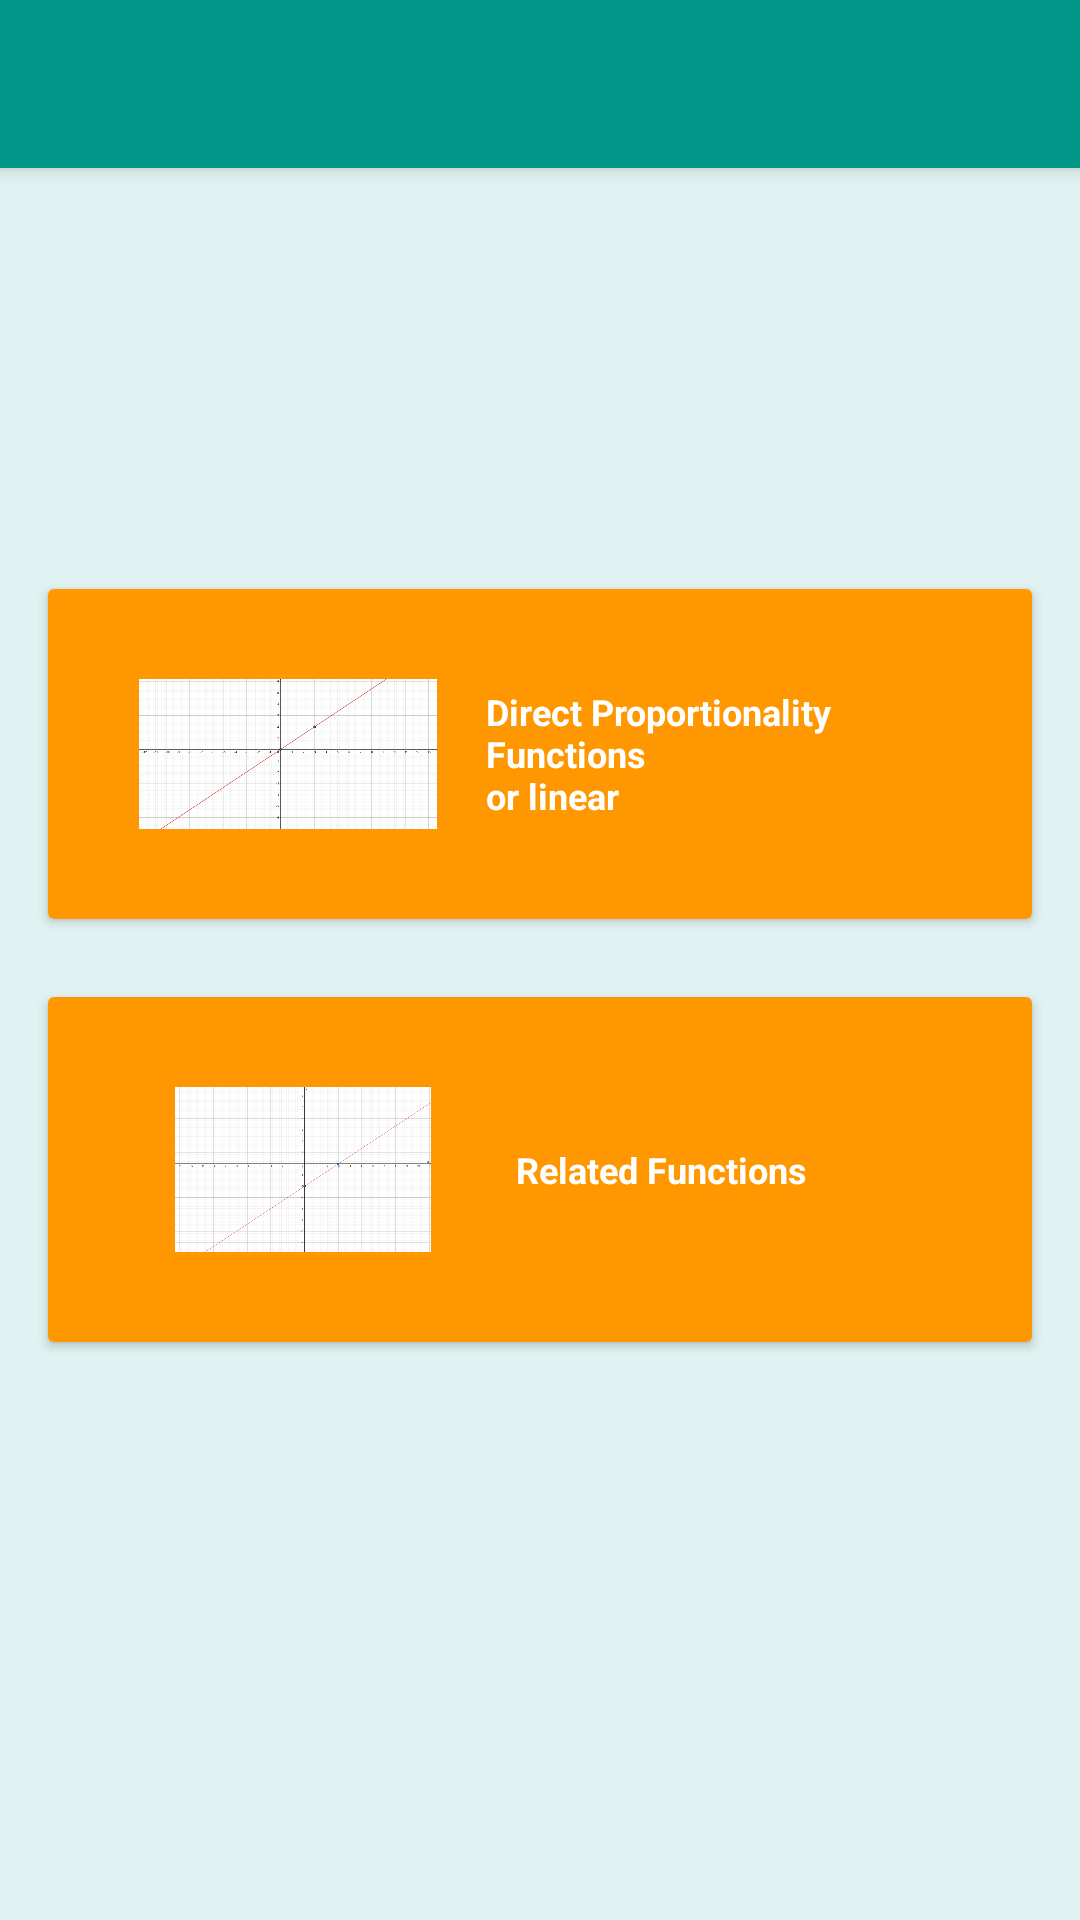

Point at icon controls on the screen. Image size 1080 × 1920, points as point (x, y).
afines: point (303, 1169)
